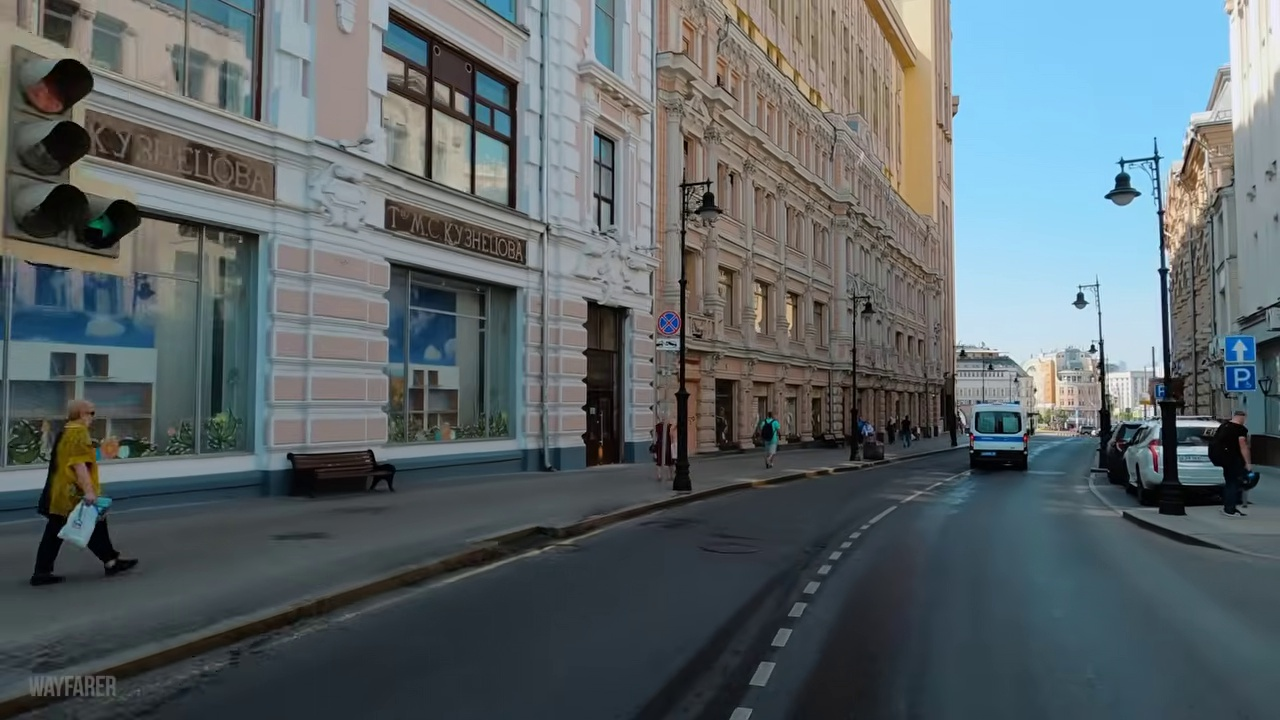apagada: (1101, 178, 1139, 210), (1070, 290, 1095, 315)
